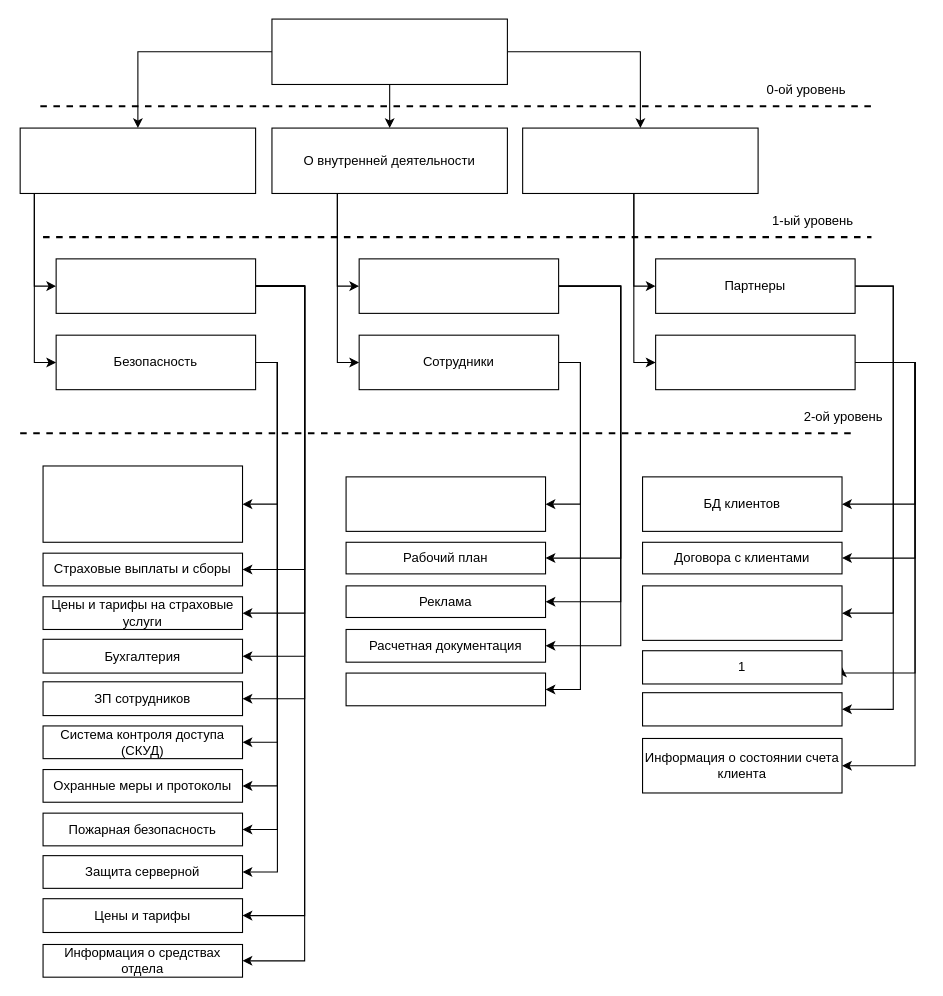
Some shapes in this 943 by 996 pixel diagram are drawn without their labels. Each missing label, with the centre of its shape:
БД партнеры: the point at 741,612
БД сотрудников: the point at 445,503
Договора с партнерами: the point at 741,709
Защищаемая информация: the point at 389,51
Клиенты: the point at 755,362
О внешней деятельности: the point at 640,160
Об организации: the point at 137,160
Отчеты о проделанной работы: the point at 445,689
Политика безопасности: the point at 142,503
Управление: the point at 458,285
Финансы: the point at 155,285
